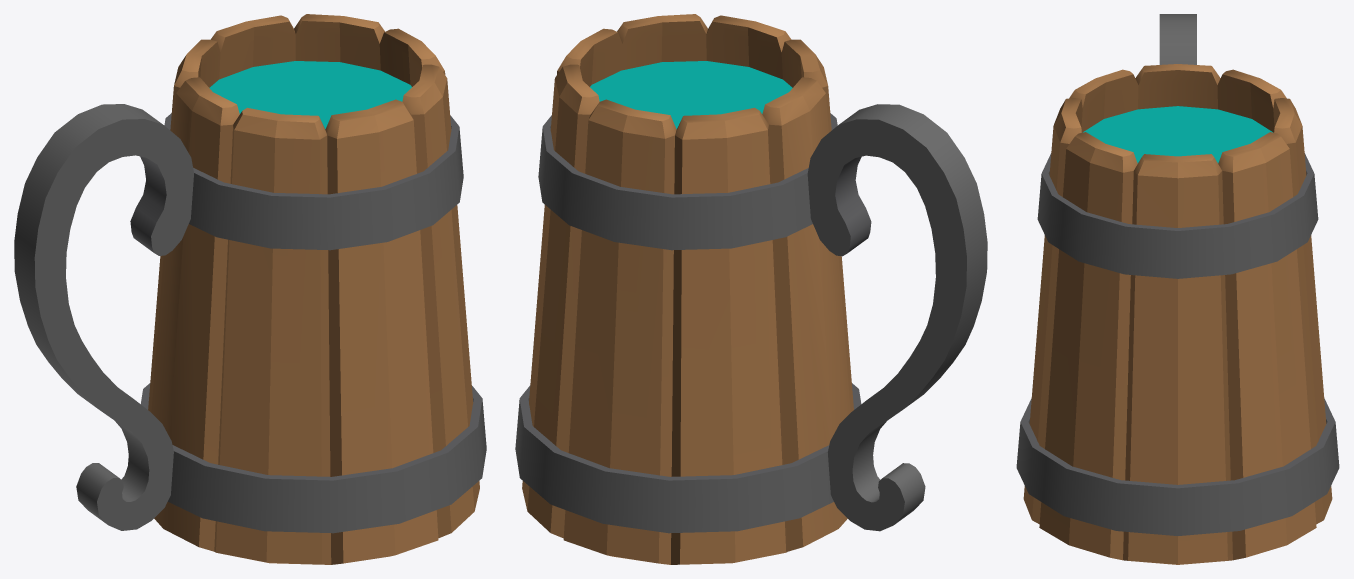
The model's file is Mug.fbx.
3 renders of one model, left to right at view 1: azimuth 30°, elevation 25°; view 2: azimuth 150°, elevation 25°; view 3: azimuth 270°, elevation 25°, orthographic. The views are drawn at different scales.
Visible parts, largest first — view 1: mug_low__0; view 2: mug_low__0; view 3: mug_low__0.
Part boxes in pixels (x1,y1,x2,y2): mug_low__0: (14, 14, 486, 564); mug_low__0: (515, 14, 987, 564); mug_low__0: (1016, 14, 1339, 564).
Bounding box in the file's own units: 25.12 × 23.73 × 17.58.
